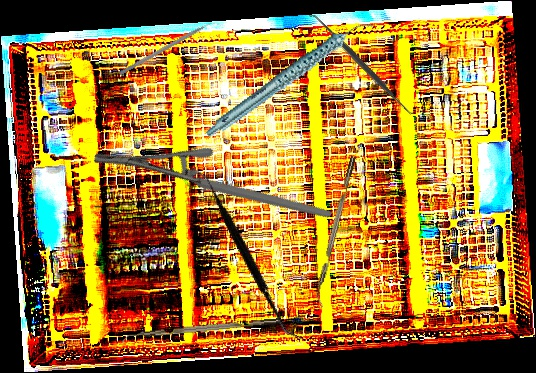Chopper: (311, 156, 363, 307), (118, 17, 222, 81), (120, 318, 283, 345)
Handpiece: (189, 18, 390, 138)
Needle Holder: (91, 87, 333, 286)
Spatula Surgical: (143, 165, 351, 342), (306, 7, 417, 121)
